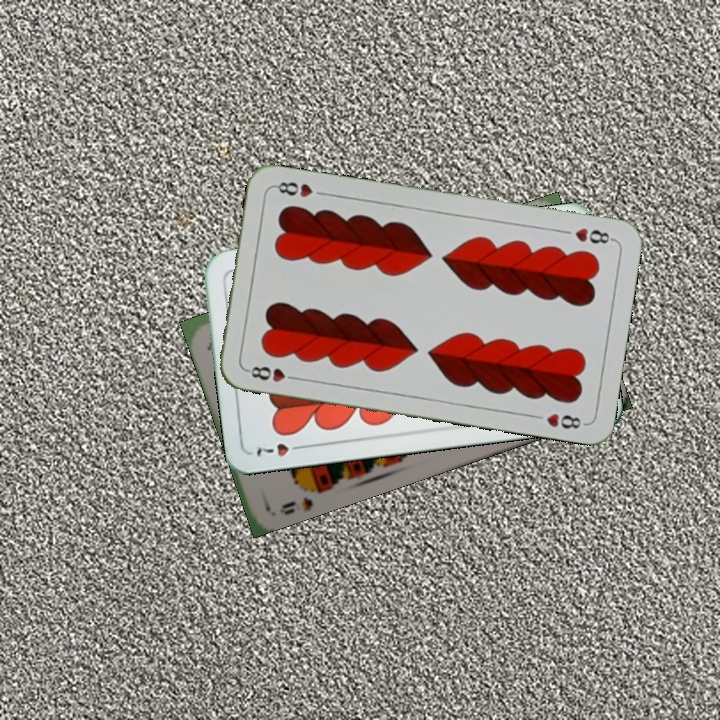H7: (251, 439, 309, 460)
H8: (242, 362, 301, 385), (571, 224, 617, 247)
S9: (276, 479, 326, 518)
